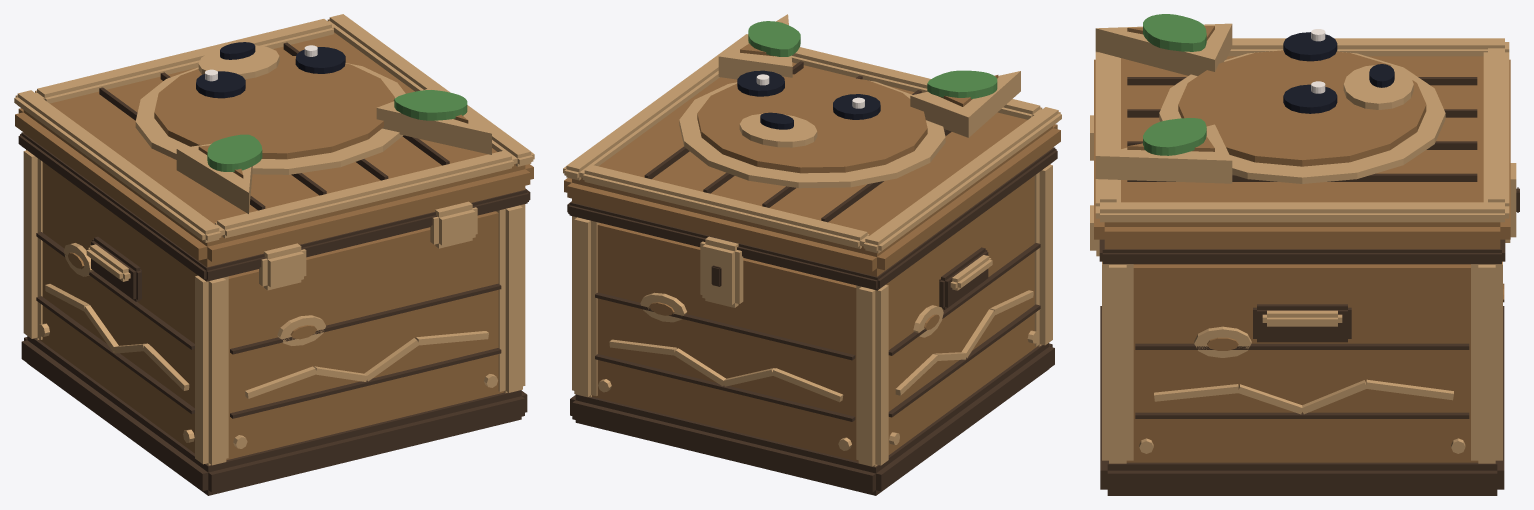
Rendered from crate_lobo_madeira.fbx.
The picture shows the model from 3 angles, left to right: view 1: azimuth 30°, elevation 25°; view 2: azimuth 150°, elevation 25°; view 3: azimuth 270°, elevation 25°; orthographic projection. The views are drawn at different scales.
Parts seen in each view (by area): view 1: crate_lobo_madeira_caixa; view 2: crate_lobo_madeira_caixa; view 3: crate_lobo_madeira_caixa.
Boxes of the visible parts, left/top/right/bottom form: crate_lobo_madeira_caixa: left=14, top=14, right=534, bottom=495; crate_lobo_madeira_caixa: left=563, top=14, right=1061, bottom=495; crate_lobo_madeira_caixa: left=1090, top=14, right=1519, bottom=495.
Size of the model in its own units: 2.68 by 2.45 by 2.7.
1 material, 1 textured.
